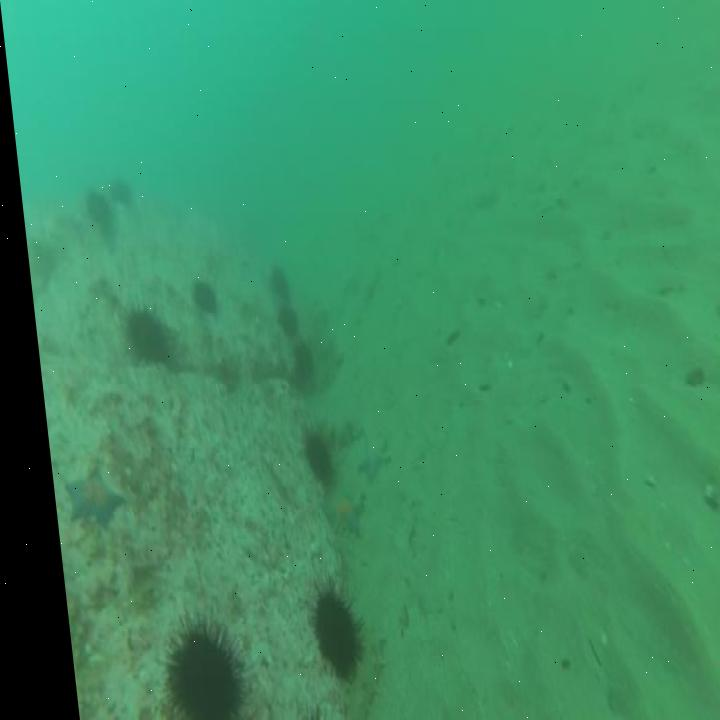echinus: (141, 613, 234, 720), (292, 580, 352, 682), (114, 300, 164, 362), (77, 181, 113, 240), (179, 279, 215, 327), (293, 430, 323, 484), (99, 170, 134, 210), (259, 260, 286, 298), (266, 302, 294, 338), (284, 342, 307, 380)
starfish: (49, 462, 116, 530), (342, 427, 383, 489), (314, 487, 355, 539)
